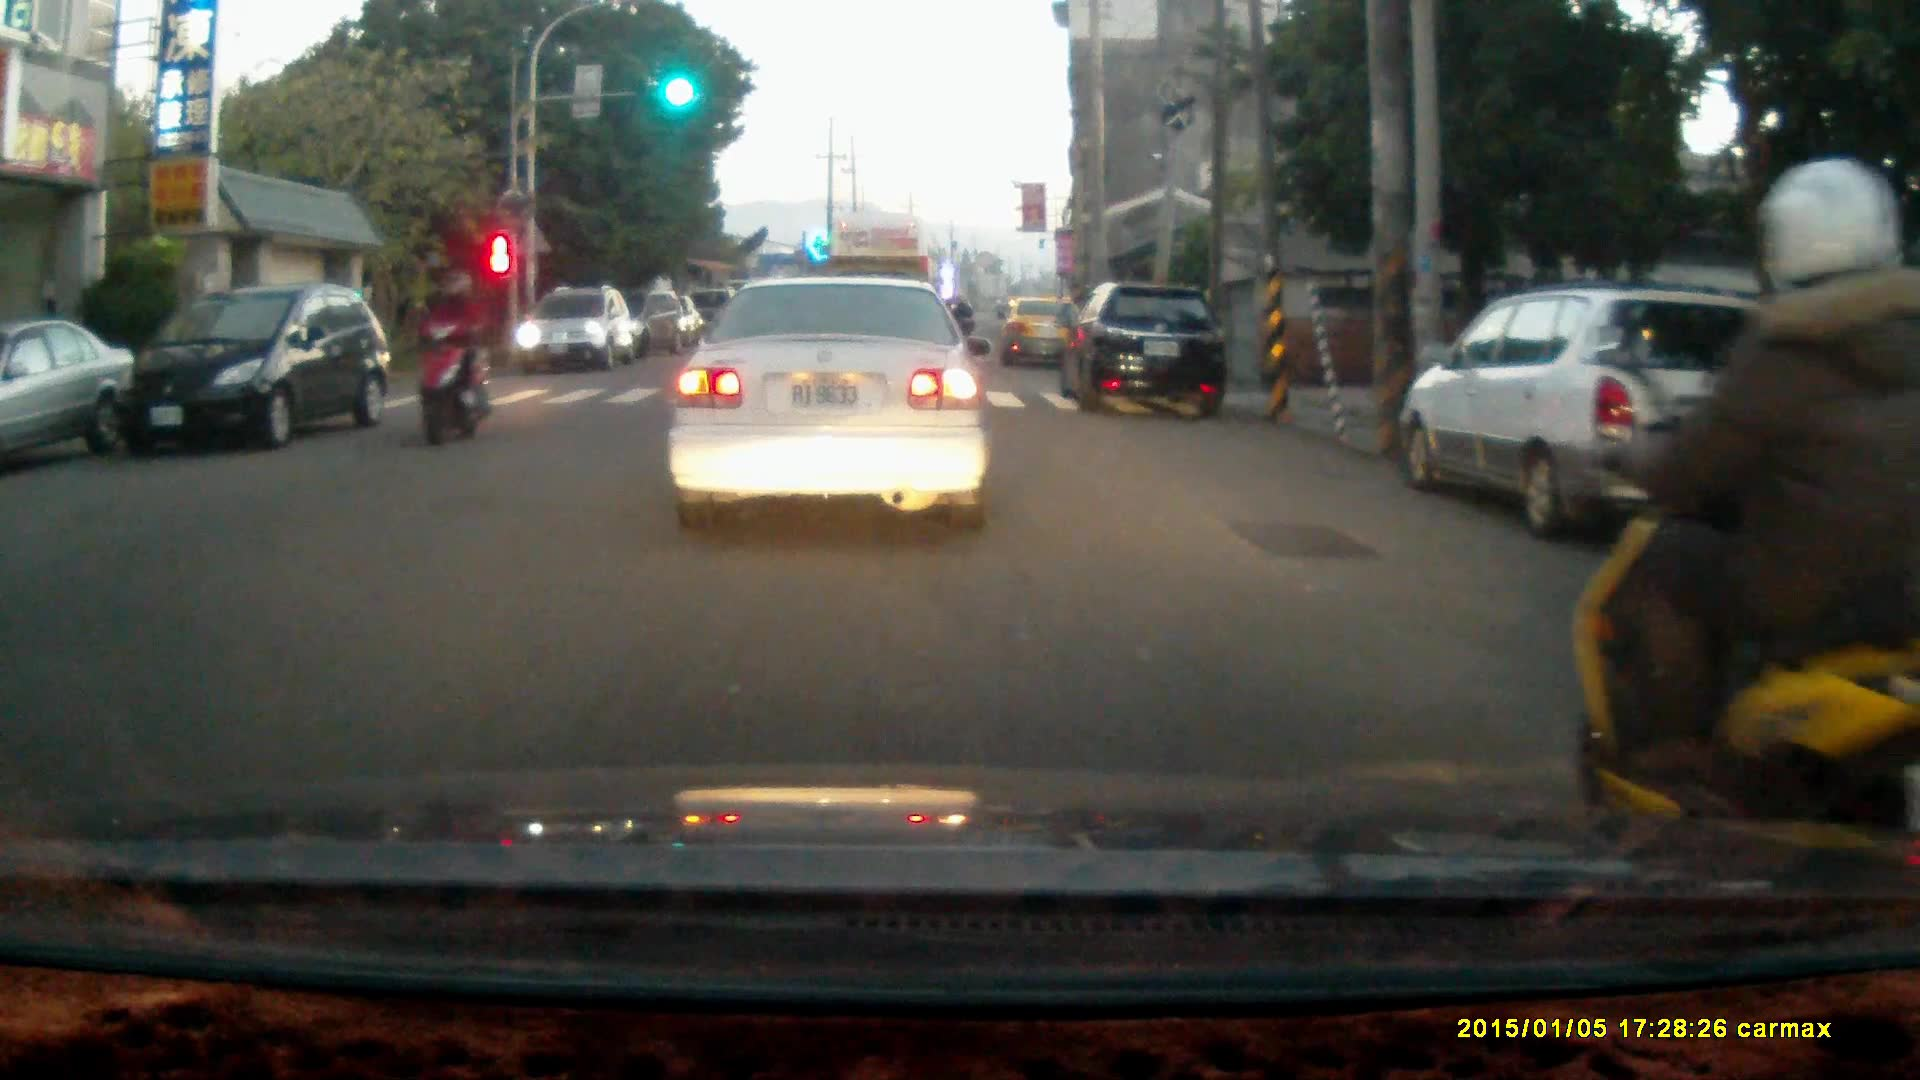rider: (1568, 159, 1920, 897), (412, 265, 490, 451)
vehicle: (1398, 286, 1804, 542), (673, 271, 994, 526), (108, 281, 392, 458), (1068, 282, 1228, 416), (0, 318, 132, 469), (825, 206, 940, 364), (518, 288, 639, 379), (1000, 295, 1093, 372)
